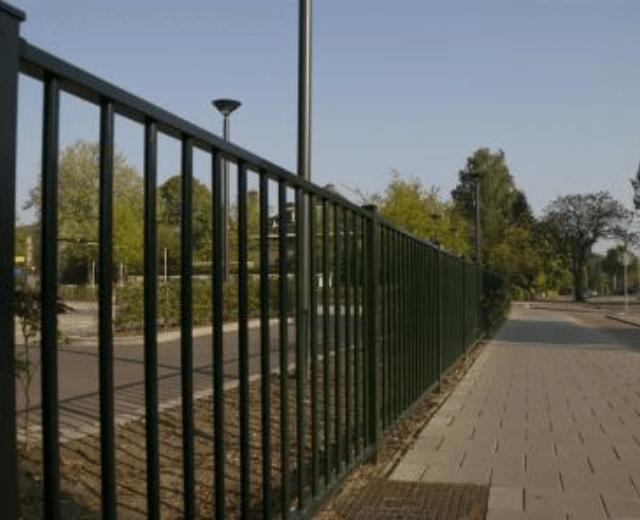obstacle: (37, 107, 640, 365)
